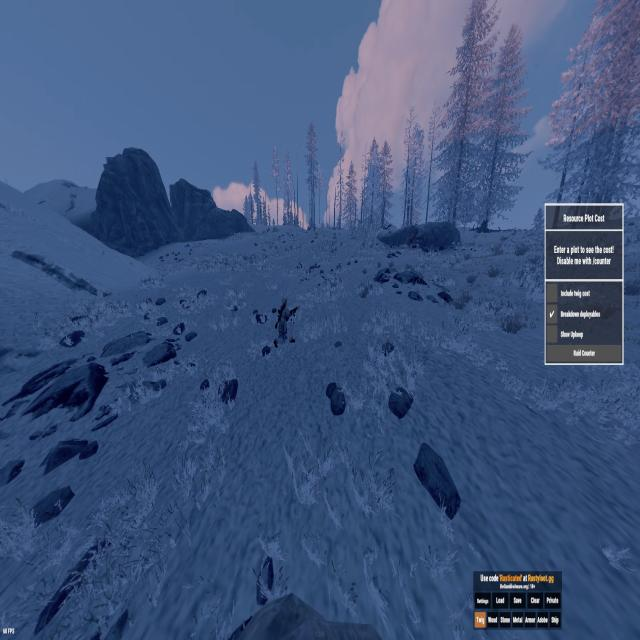Player: (273, 296, 298, 350), (408, 229, 414, 252)
